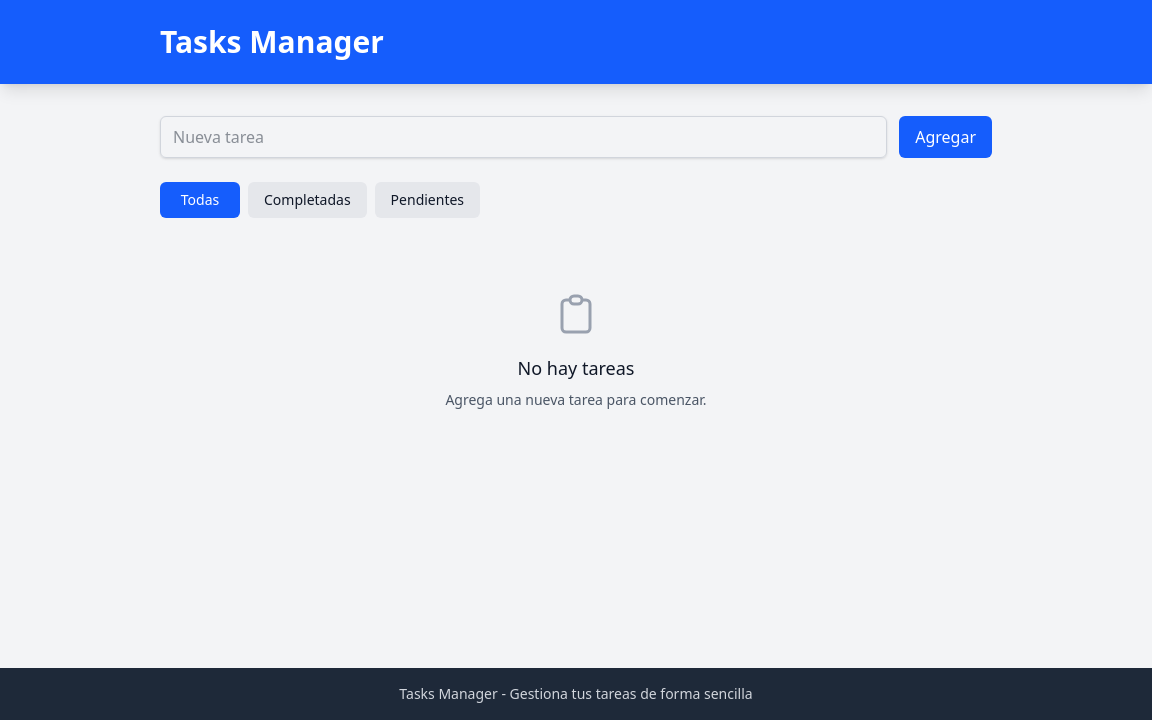
Test case: App › complete user flow: add -> view -> complete -> filter › allows deleting a task
# Add a task
Type "Buy groceries" into the field with placeholder "Nueva tarea".
click(524, 137); type("Buy groceries")  # box [160,116,887,158]
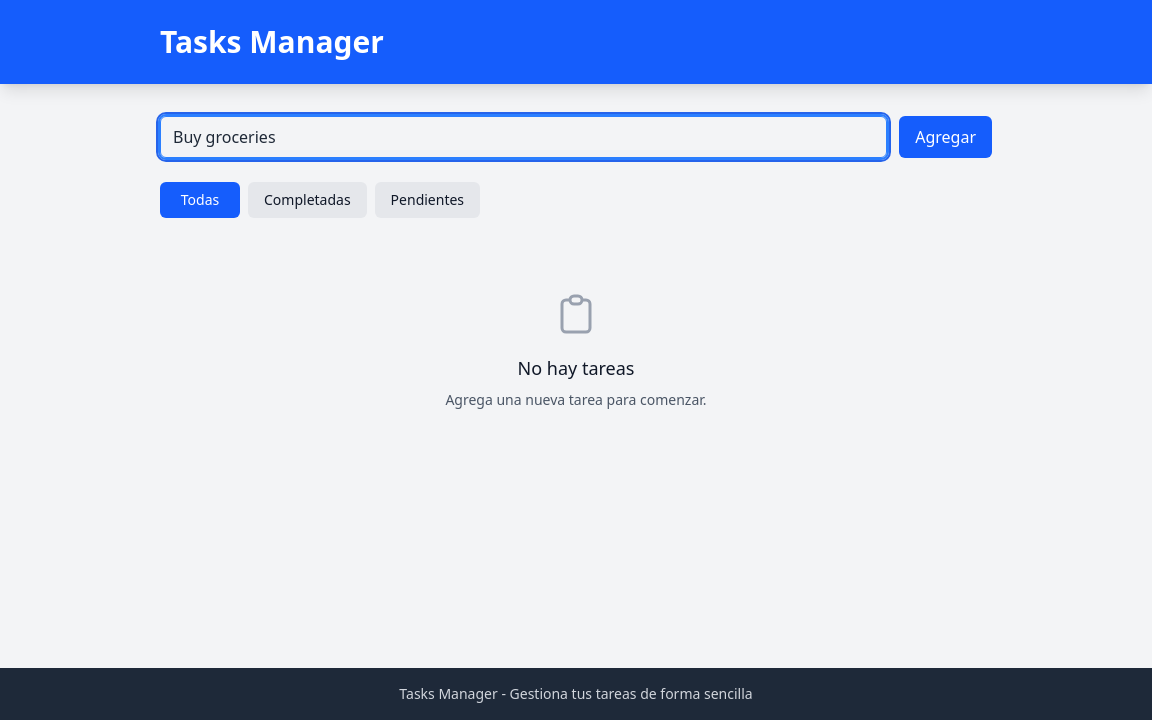
Click the button "Agregar".
click(946, 137)  # box [899,116,992,158]
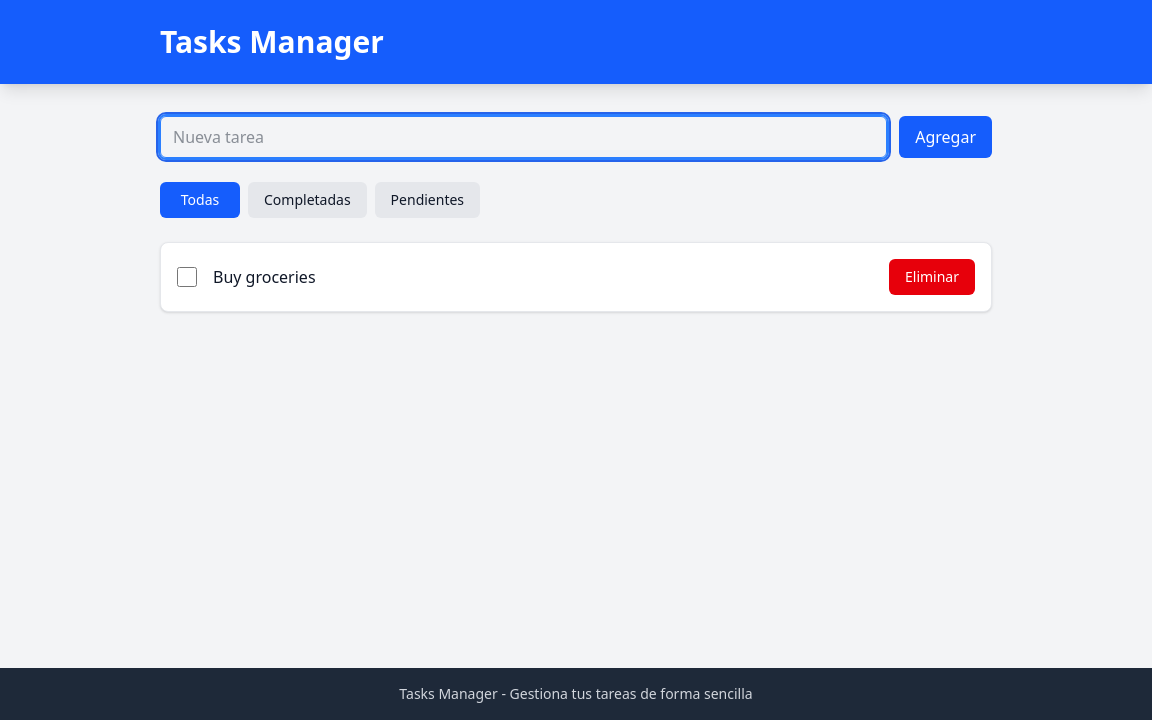
Now the button "Buy groceries" is shown, box [213,266,316,288]
# Delete the task
Click the button "Eliminar".
click(932, 277)  # box [889,259,975,295]
Wait 200 ms
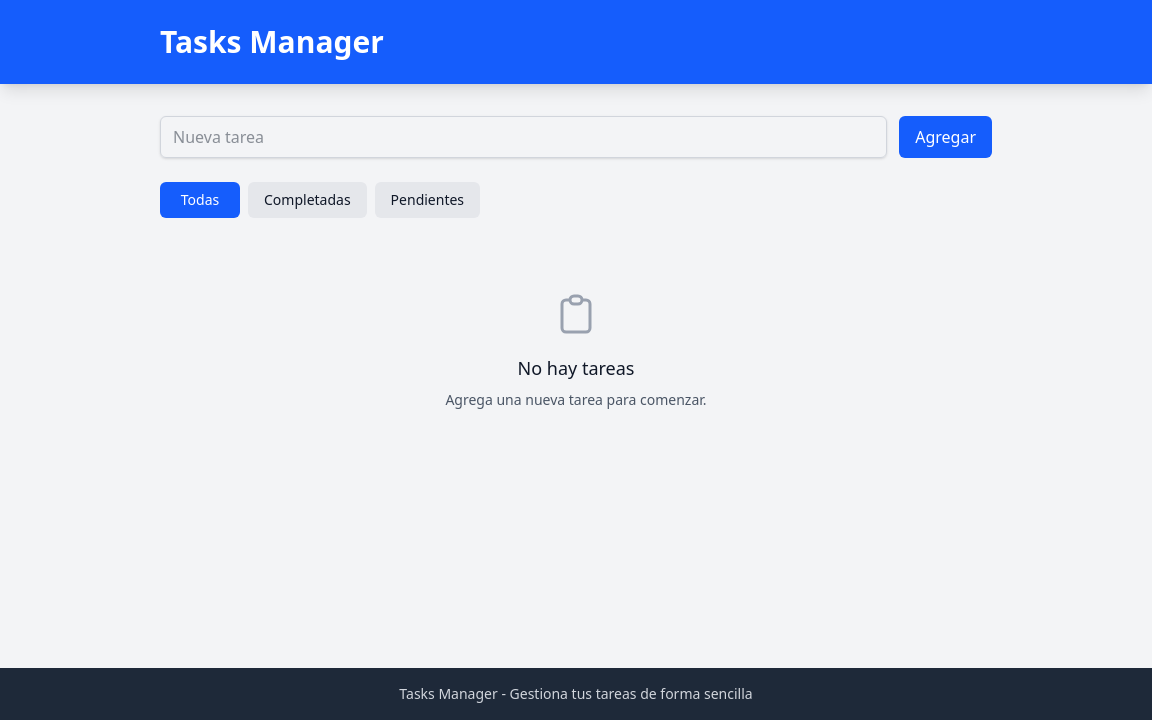
Now the button "Buy groceries" is gone
Now the heading "No hay tareas" is shown, box [518,356,634,380]
